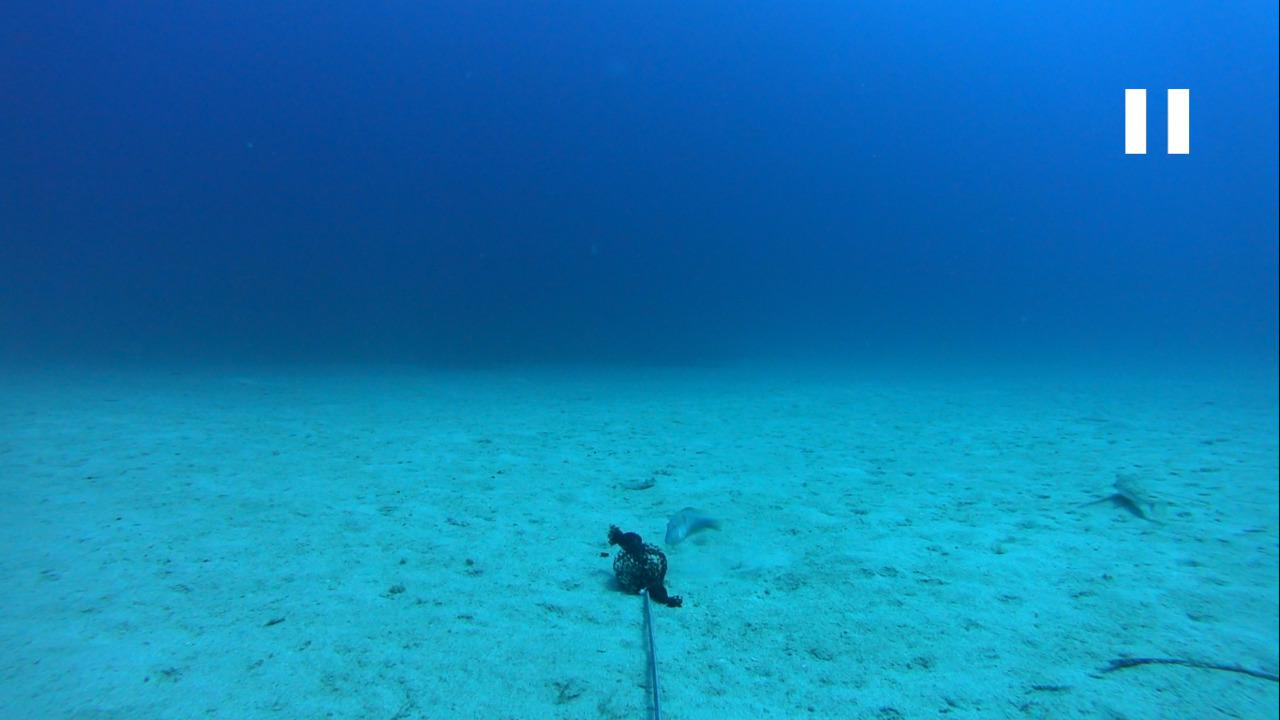bothus: (611, 472, 657, 489)
dactylopterus: (1089, 468, 1160, 533)
raor: (653, 500, 725, 551)
